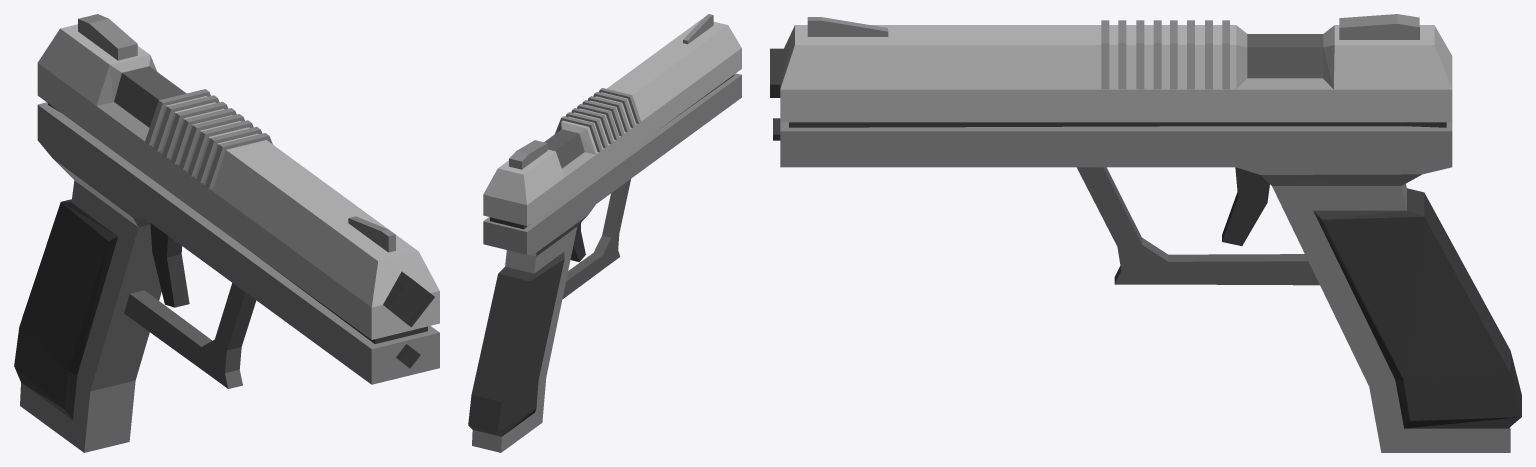
Rendered from handgun_A.FBX.
3 views of the same model, side by side, from view 1: azimuth 30°, elevation 25°; view 2: azimuth 150°, elevation 25°; view 3: azimuth 270°, elevation 25° (orthographic). The views are drawn at different scales.
Parts seen in each view (by area): view 1: handgun_A; view 2: handgun_A; view 3: handgun_A.
Part boxes in pixels (x1,y1,x2,y2): handgun_A: (14,14,439,452); handgun_A: (468,14,741,452); handgun_A: (770,14,1521,452).
Bounding box in the file's own units: 1.45 × 7.77 × 12.52.
